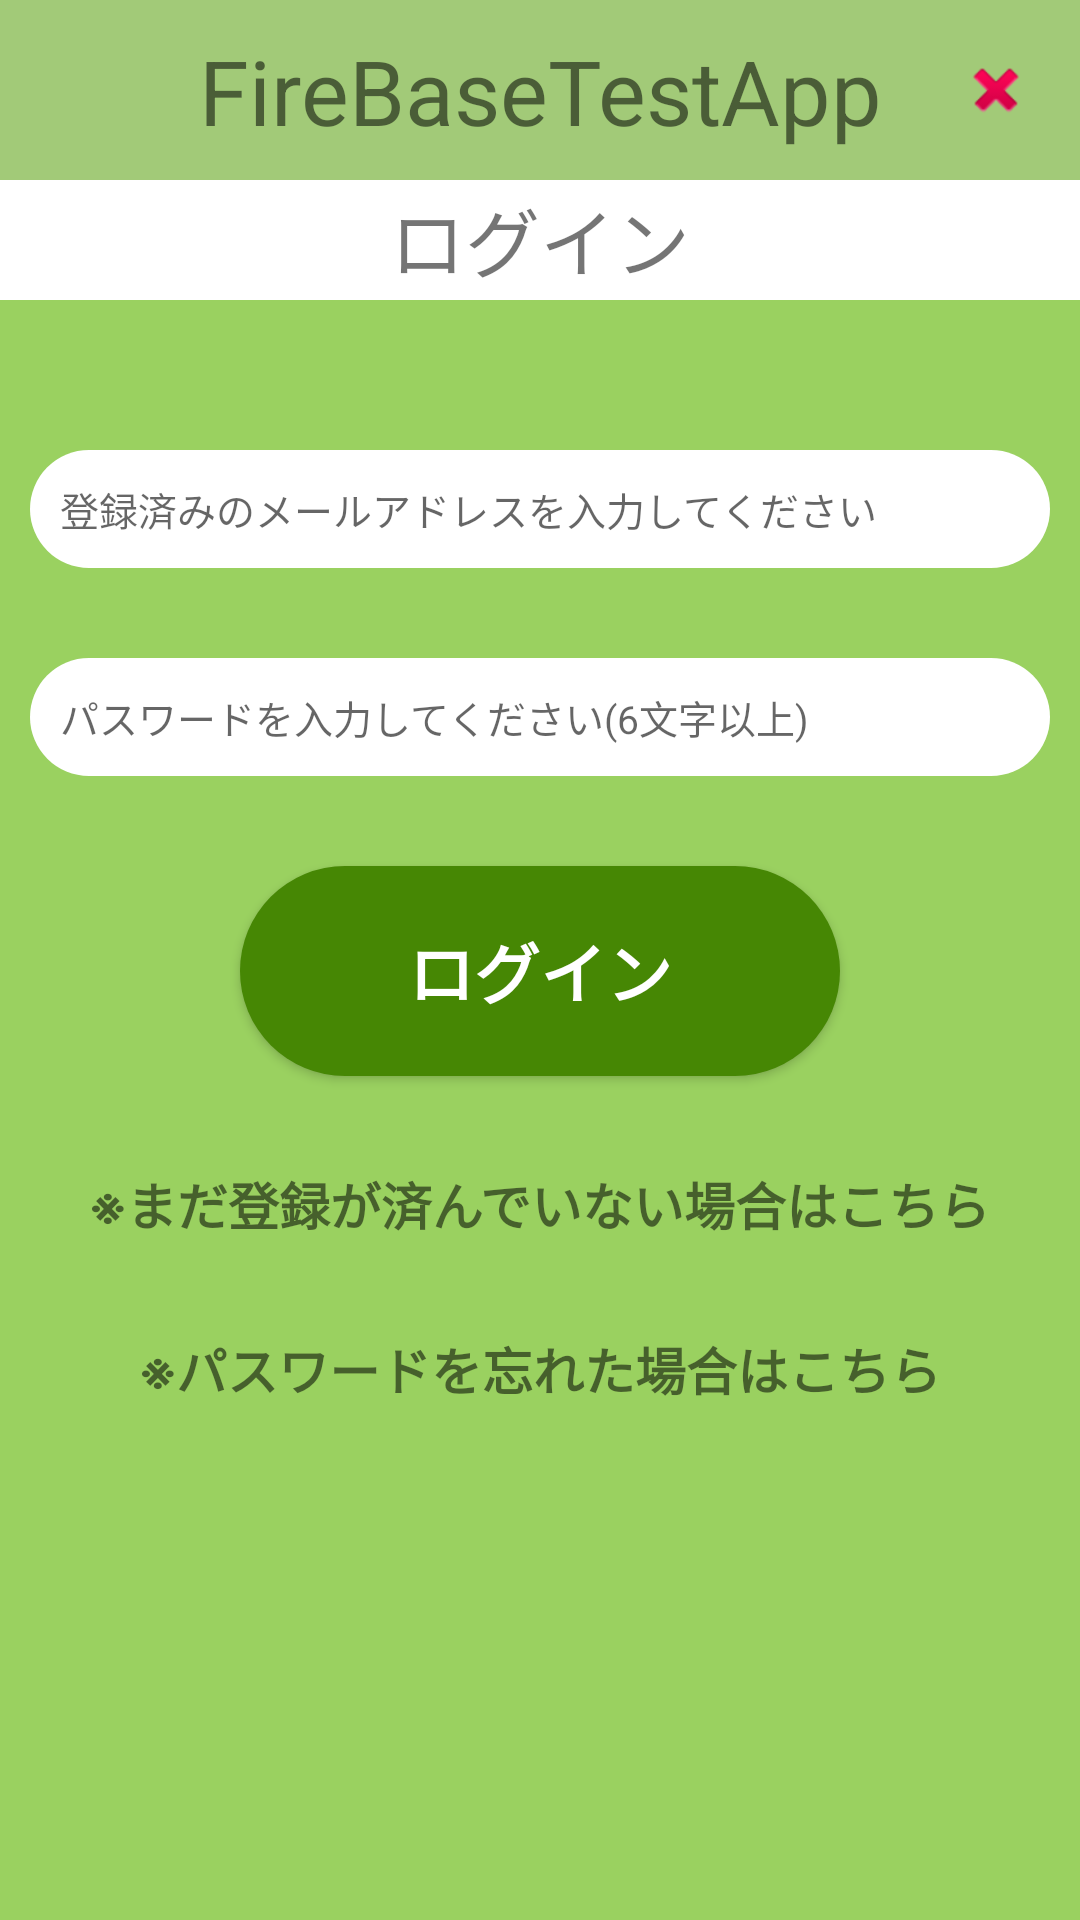

Icons on this 1080*1920 Android screen, each with the point to tap as point (x, y):
delete: point (996, 90)
